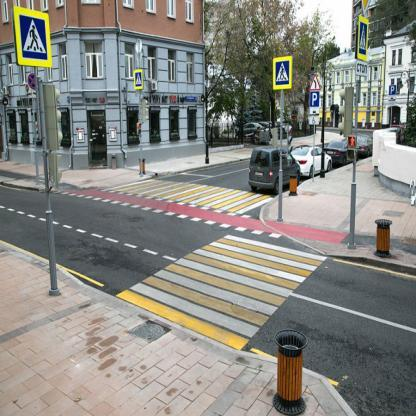obstructed_road_sign: (28, 73, 35, 90)
road_sign: (14, 6, 50, 67), (273, 57, 292, 89), (356, 15, 369, 61), (309, 91, 320, 108), (134, 69, 143, 89)
